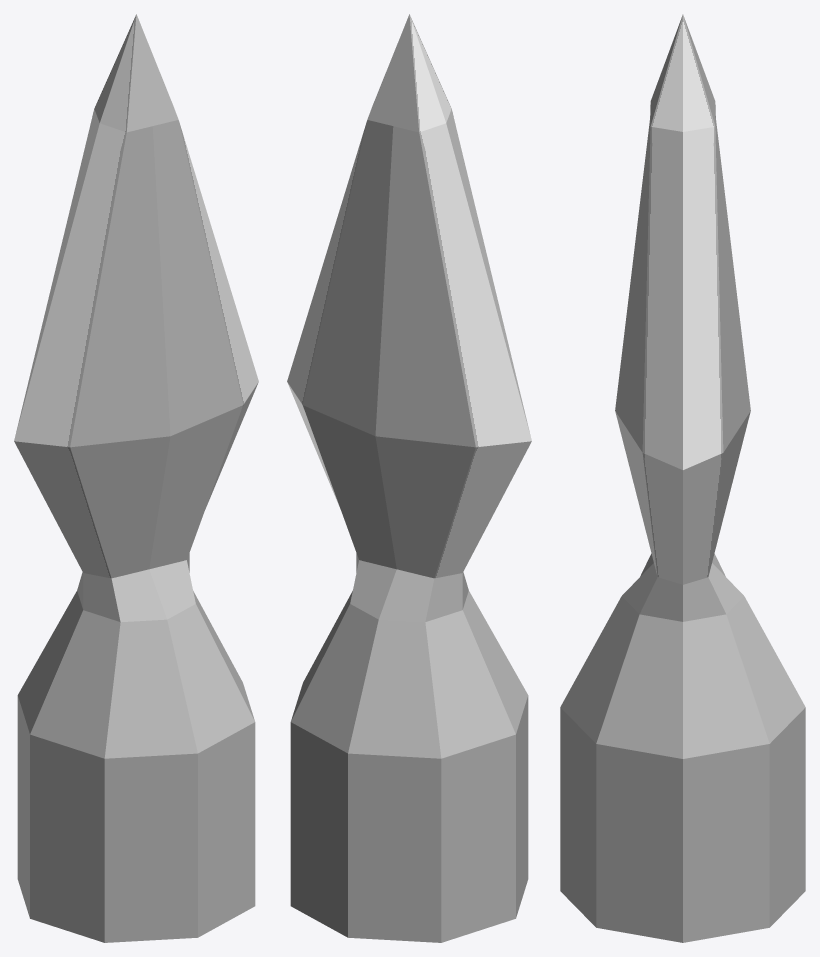
Rendered from Spear-Head-Basic (1).fbx.
3 views of the same model, side by side, from view 1: azimuth 30°, elevation 25°; view 2: azimuth 150°, elevation 25°; view 3: azimuth 270°, elevation 25° (orthographic).
Parts seen in each view (by area): view 1: SpearHead; view 2: SpearHead; view 3: SpearHead.
Part boxes in pixels (<box>): SpearHead: <box>14,14,258,942</box>; SpearHead: <box>287,14,531,942</box>; SpearHead: <box>560,14,805,942</box>.
Size of the model in its own units: 3.45 by 11.83 by 3.
